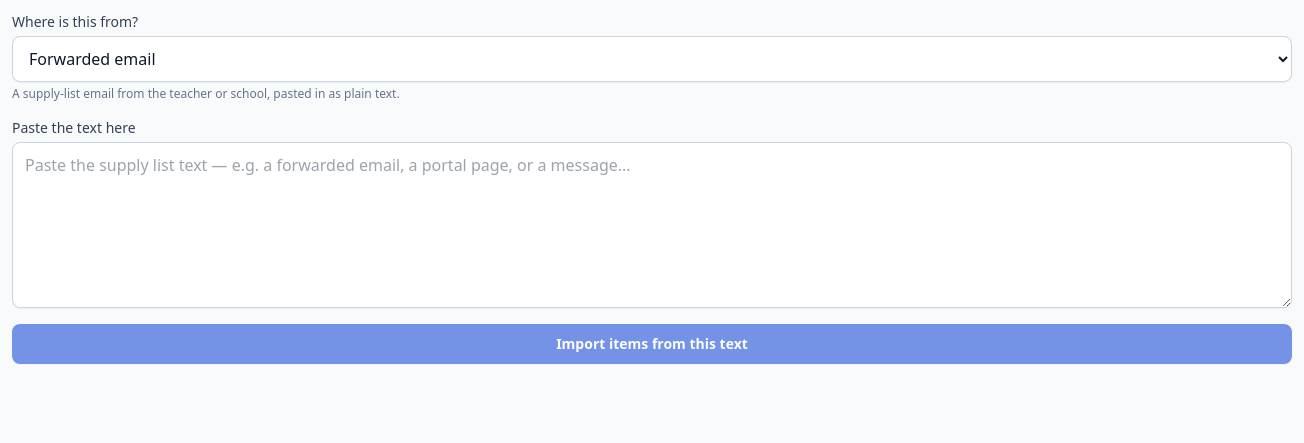
Test case: ImportRequirementsForm › shows a distinct summary count for ready-to-review vs needs-a-closer-look items
Type "some text" into the text box labelled "Paste the text here" at coordinates (652, 225), box left=12, top=142, right=1292, bottom=308
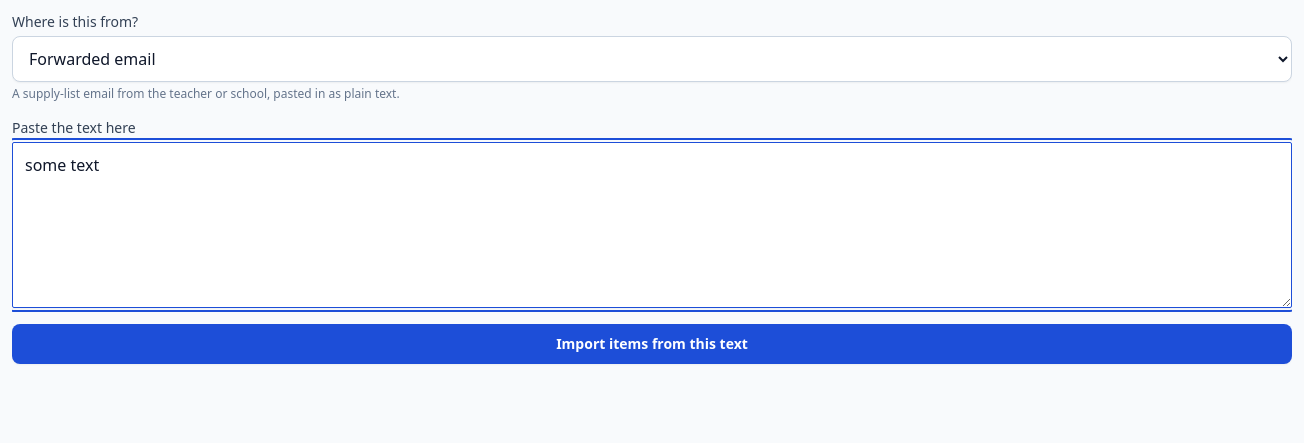
Click the button "Import items from this text" at coordinates (652, 344), box left=12, top=324, right=1292, bottom=364
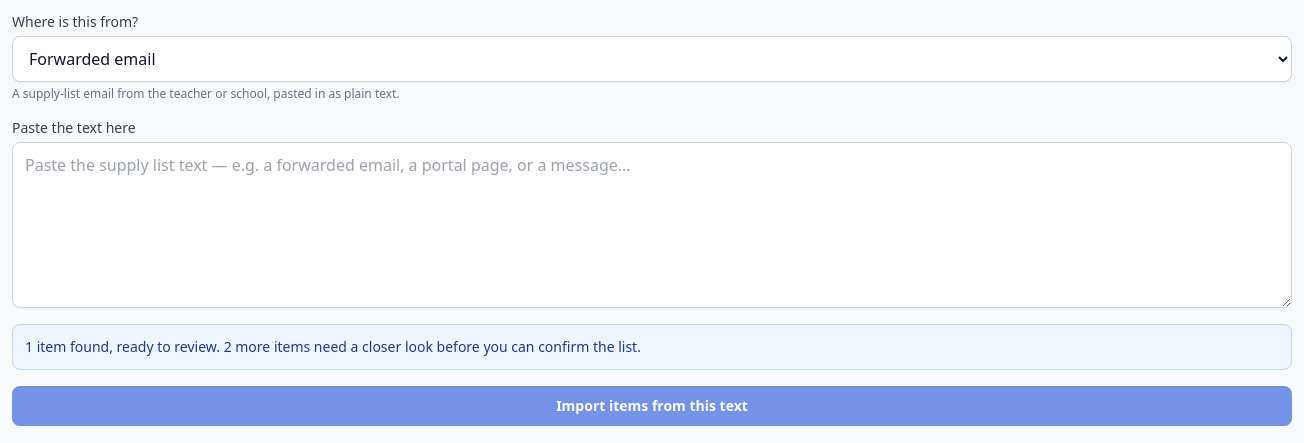
Expected: the message shows "1 item found, ready to review", left=25, top=337, right=641, bottom=356
Expected: the message shows "2 more items need a closer look before you can confirm the list", left=25, top=337, right=641, bottom=356
